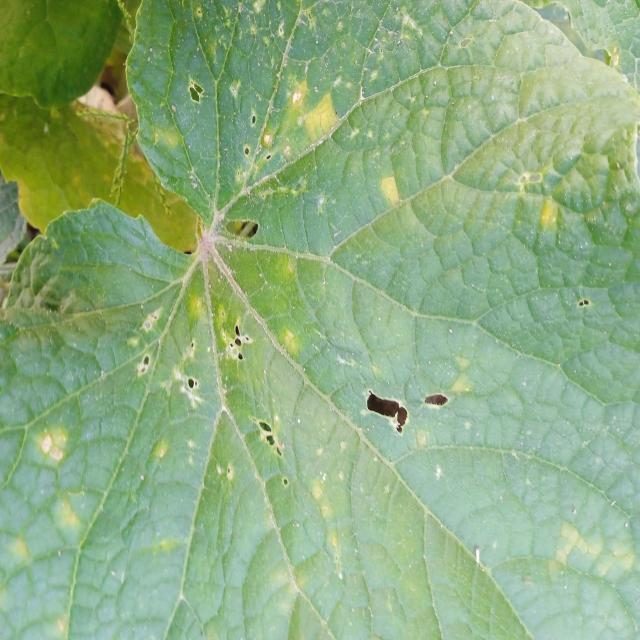cucumber_downy: (5, 26, 640, 636)
